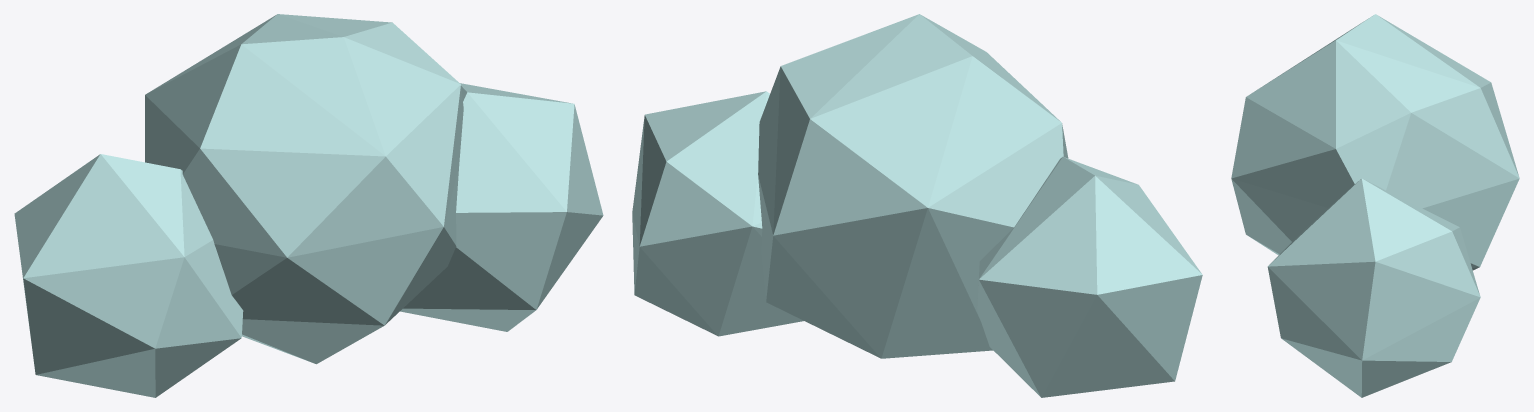
File: cloud-003.glb
3 renders of one model, left to right at view 1: azimuth 30°, elevation 25°; view 2: azimuth 150°, elevation 25°; view 3: azimuth 270°, elevation 25°, orthographic. The views are drawn at different scales.
Parts seen in each view (by area): view 1: cloud 1_26; view 2: cloud 1_26; view 3: cloud 1_26.
Boxes of the visible parts, x1,y1,x2,y2 form: cloud 1_26: (14,14,603,397); cloud 1_26: (632,14,1202,397); cloud 1_26: (1231,14,1519,397).
Bounding box in the file's own units: 1.35 × 0.7801 × 0.7128.
